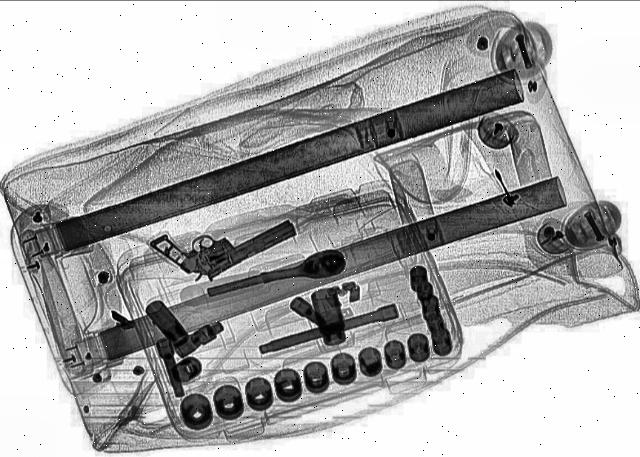Gun: (142, 186, 306, 288)
